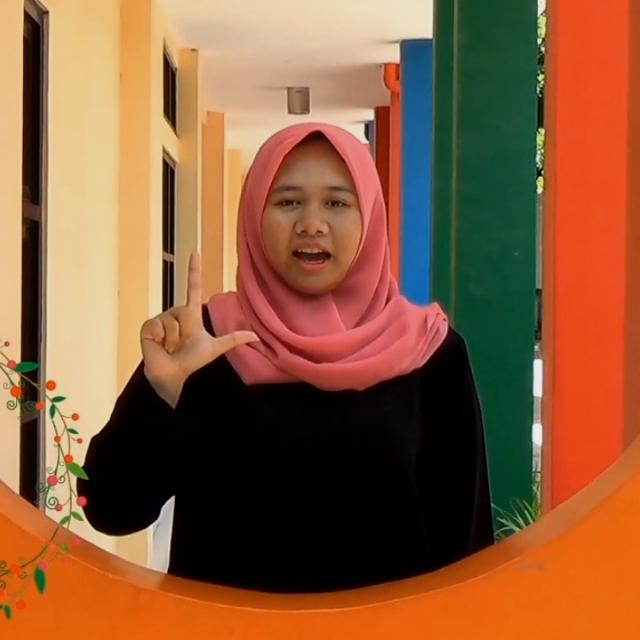L: (140, 251, 258, 389)
